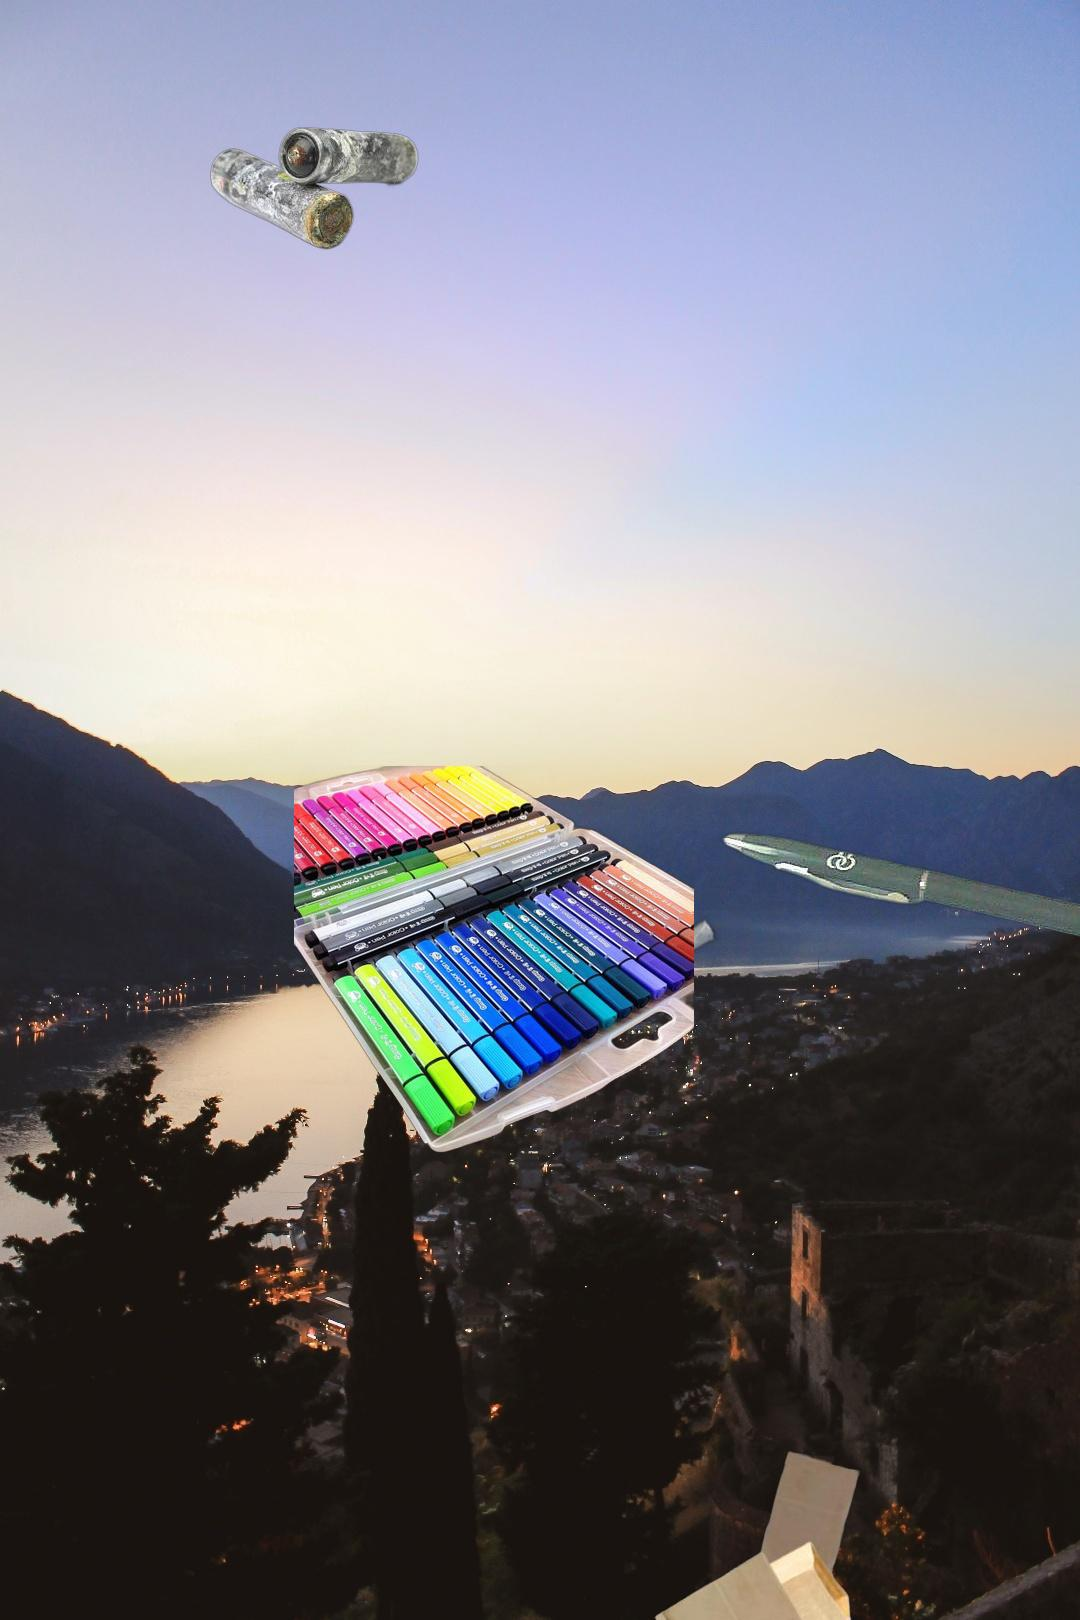battery: (209, 125, 421, 252)
paper: (298, 765, 810, 976)
paper-bag: (651, 1444, 869, 1620)
penholder: (294, 765, 694, 1156), (718, 830, 1080, 965)
